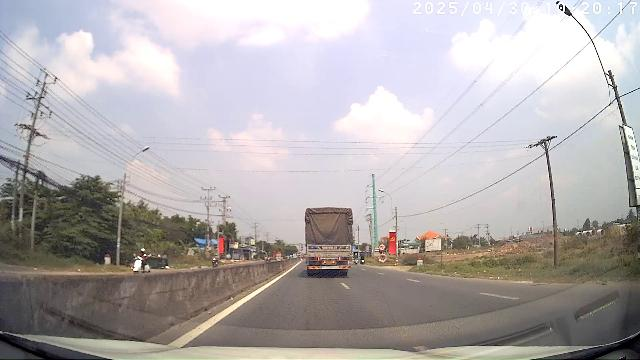124b-cam-oto-quay-dau-xe: (378, 243, 386, 251)
